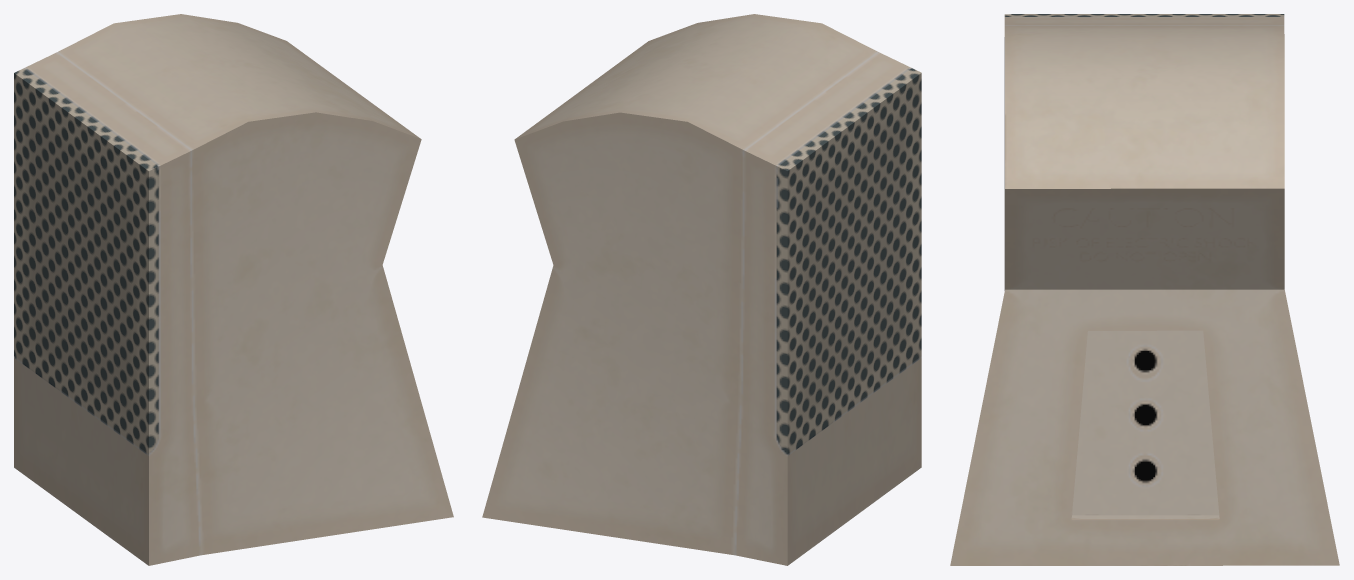
File: SM_Computer_01e.fbx
3 views of the same model, side by side, from view 1: azimuth 30°, elevation 25°; view 2: azimuth 150°, elevation 25°; view 3: azimuth 270°, elevation 25° (orthographic). The views are drawn at different scales.
Visible parts, largest first — view 1: SM_Computer_01e_LOD0; view 2: SM_Computer_01e_LOD0; view 3: SM_Computer_01e_LOD0.
Boxes of the visible parts, x1=… form: SM_Computer_01e_LOD0: x1=14, y1=14, x2=453, y2=565; SM_Computer_01e_LOD0: x1=482, y1=14, x2=921, y2=565; SM_Computer_01e_LOD0: x1=950, y1=14, x2=1339, y2=565.
Bounding box in the file's own units: 11.4 × 13.26 × 16.39.
Materials: 1 (1 with a texture image).
